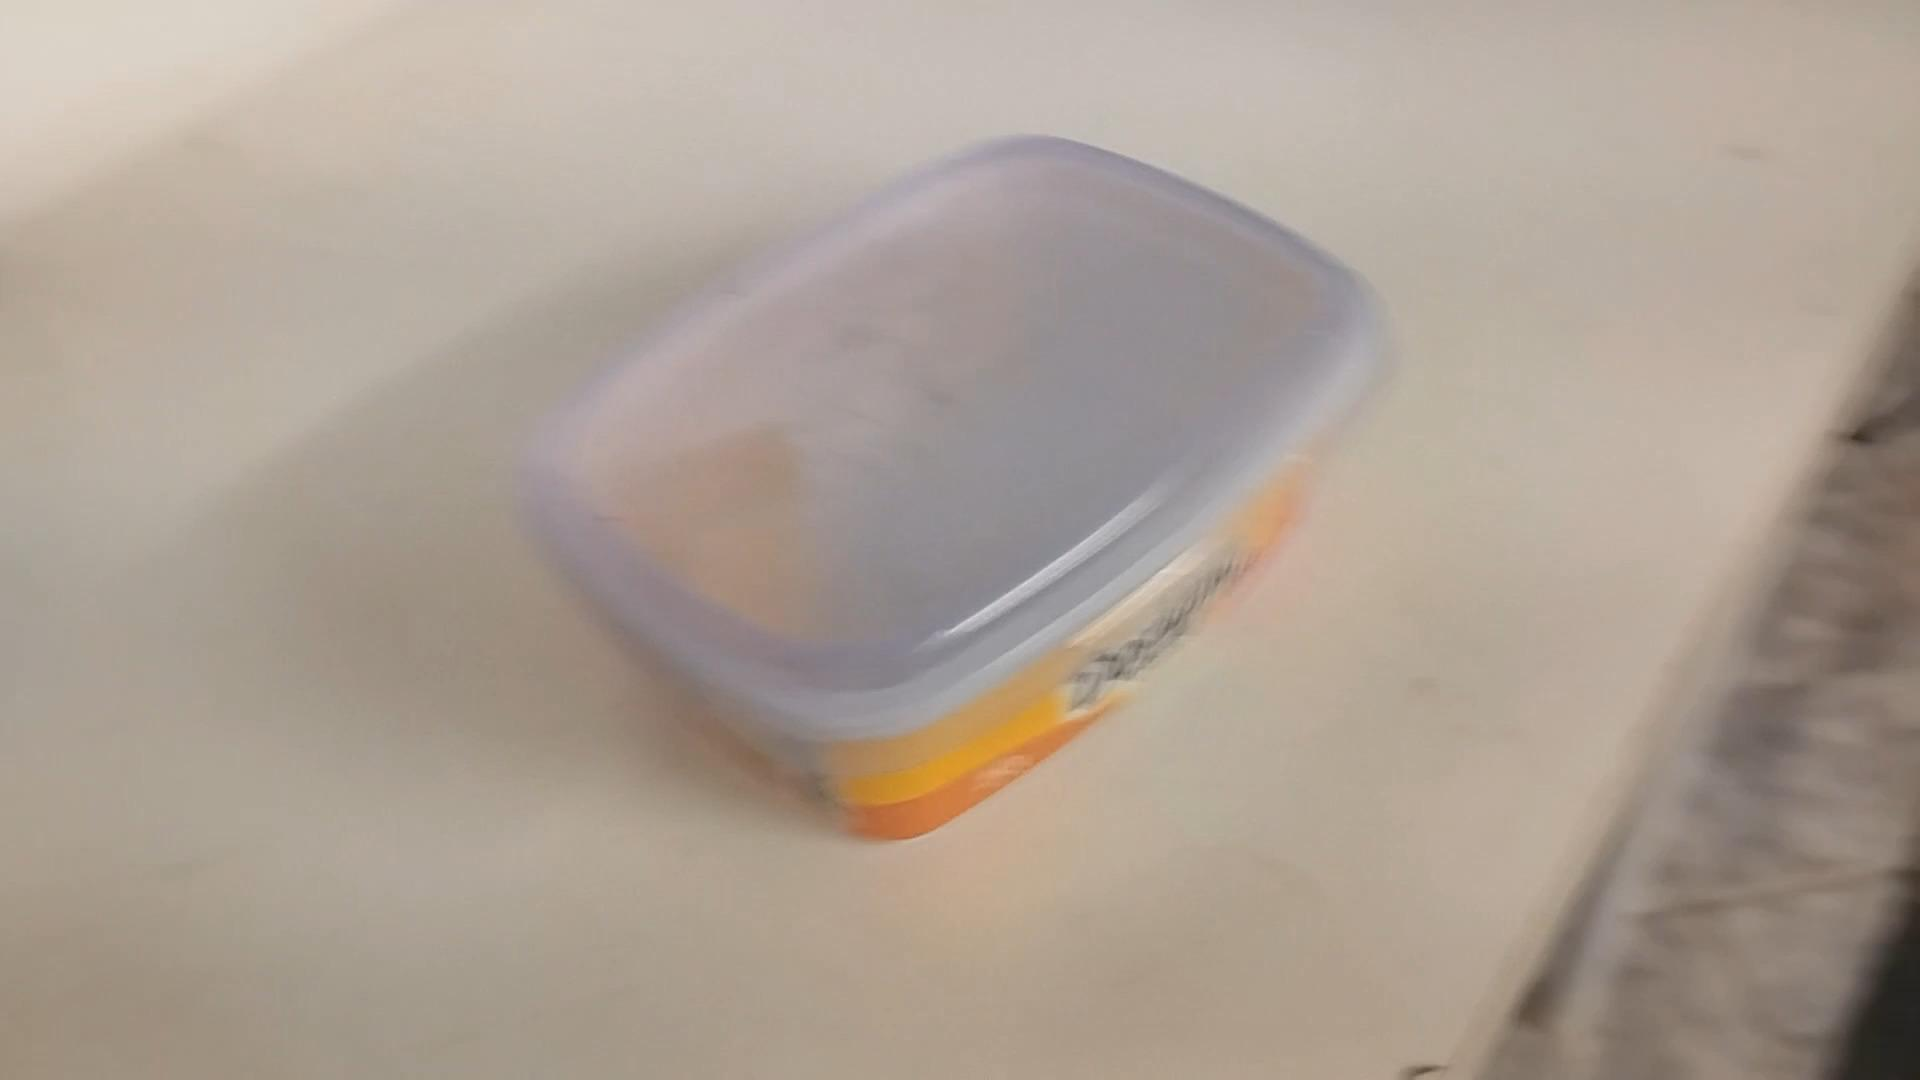butter: (512, 136, 1381, 843)
